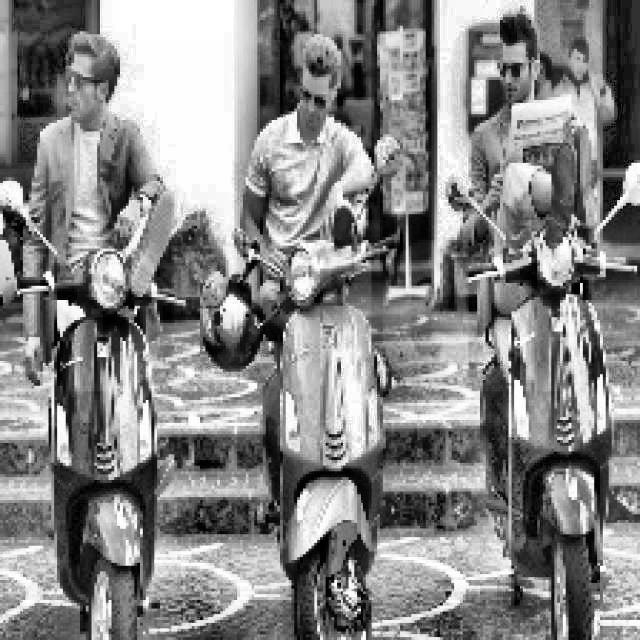motorcycle: (215, 130, 428, 640), (449, 146, 640, 636), (0, 166, 194, 640)
